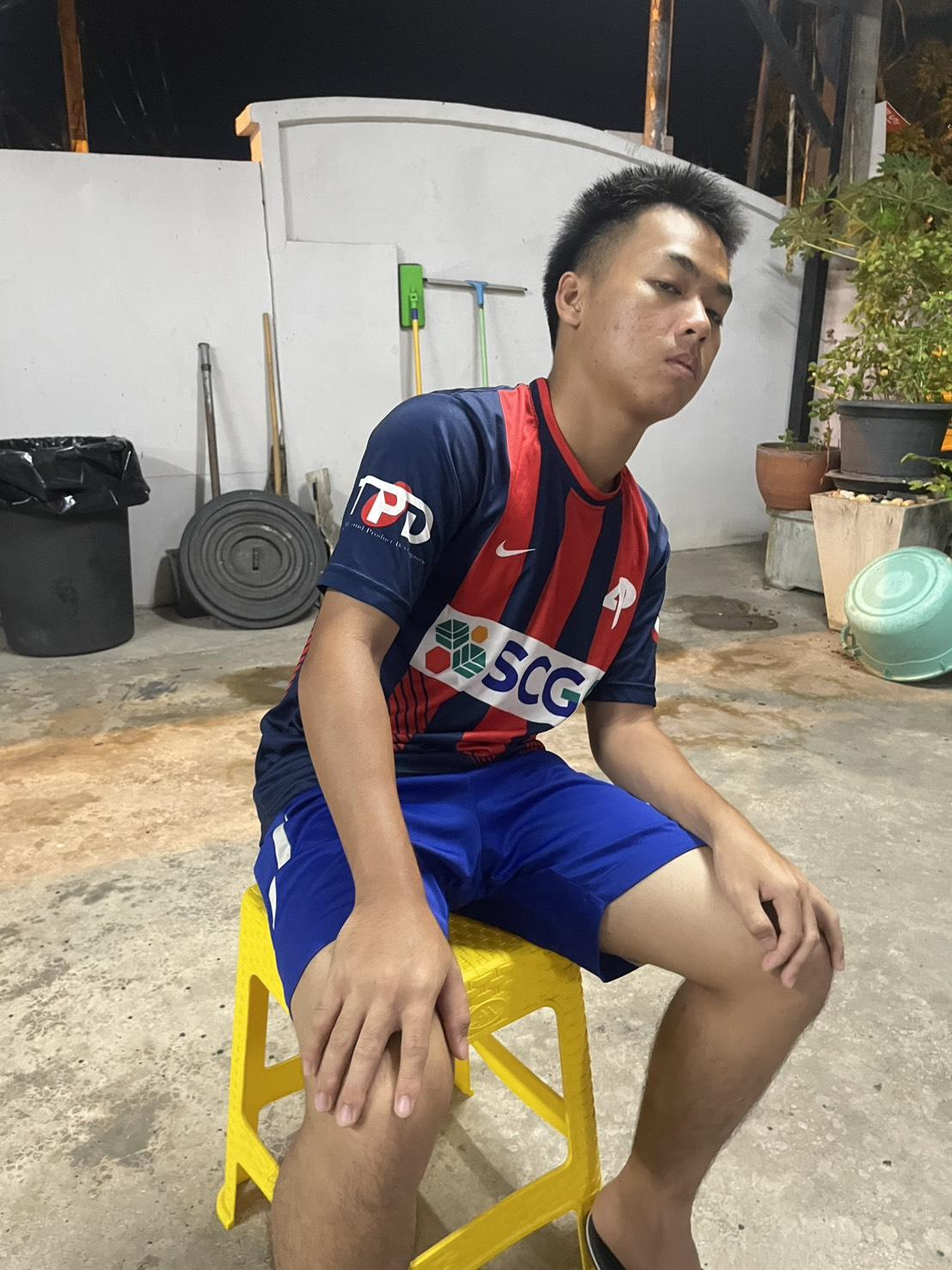BadPosture: (319, 163, 743, 776)
